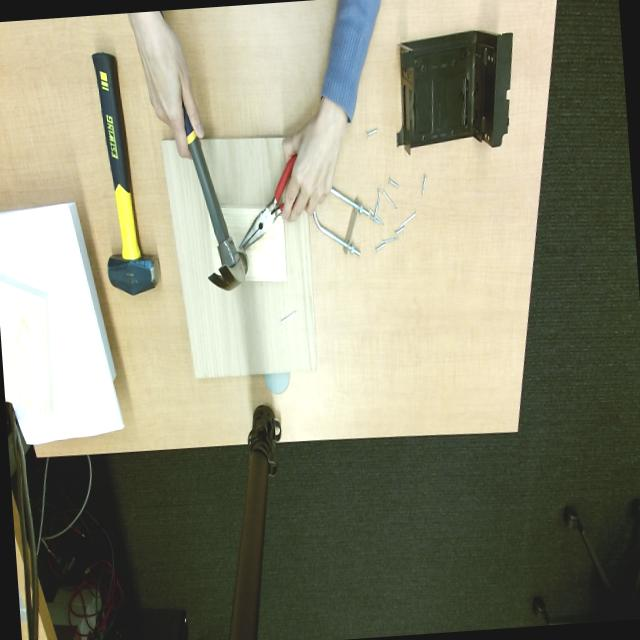hammer: (92, 53, 159, 295), (183, 105, 247, 291)
pliers: (240, 155, 296, 249)
